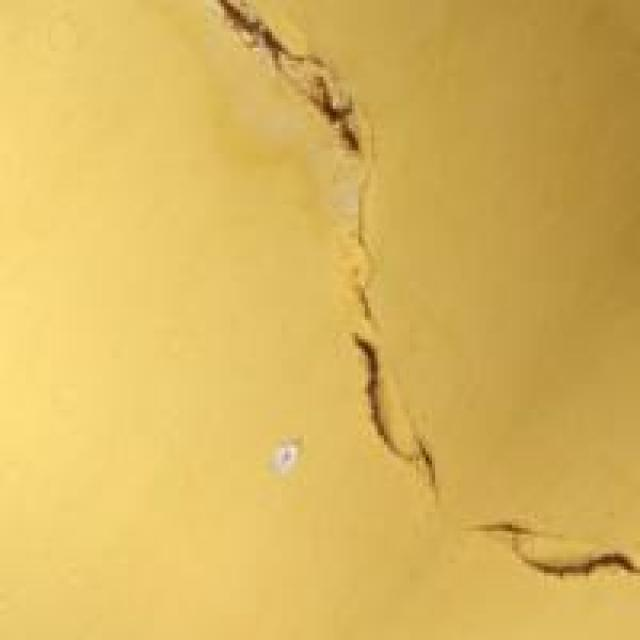Crack: (211, 8, 624, 594)
